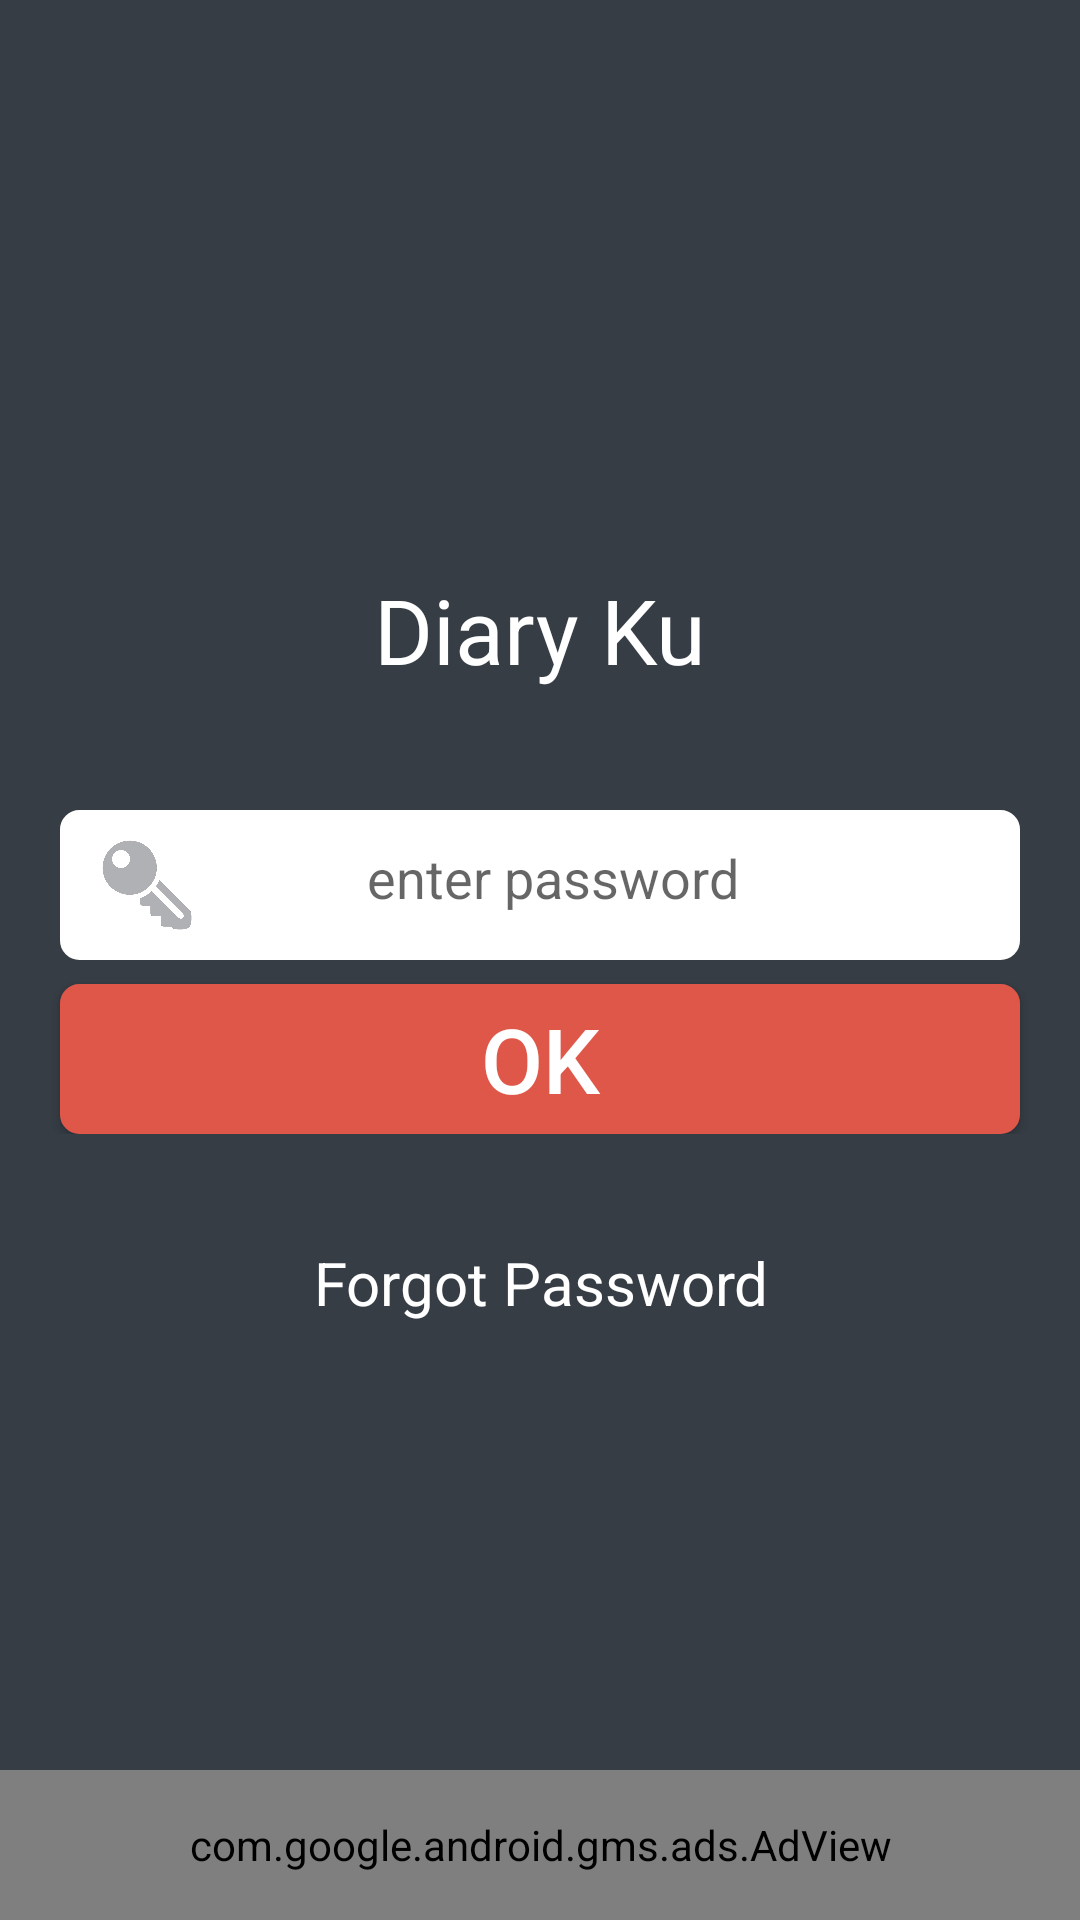

Icon bounding boxes for this 1080×1920 phone screenshot, format (x1, y1, x2, y2):
key: (103, 841, 192, 930)
